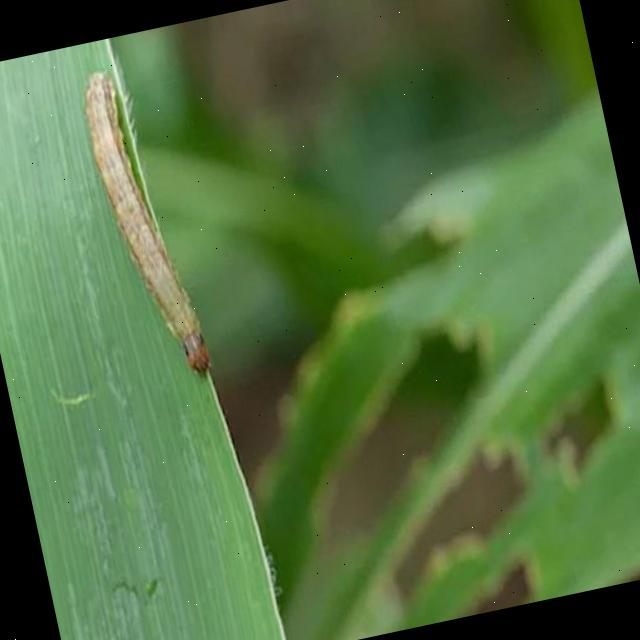worm: (77, 60, 217, 388)
